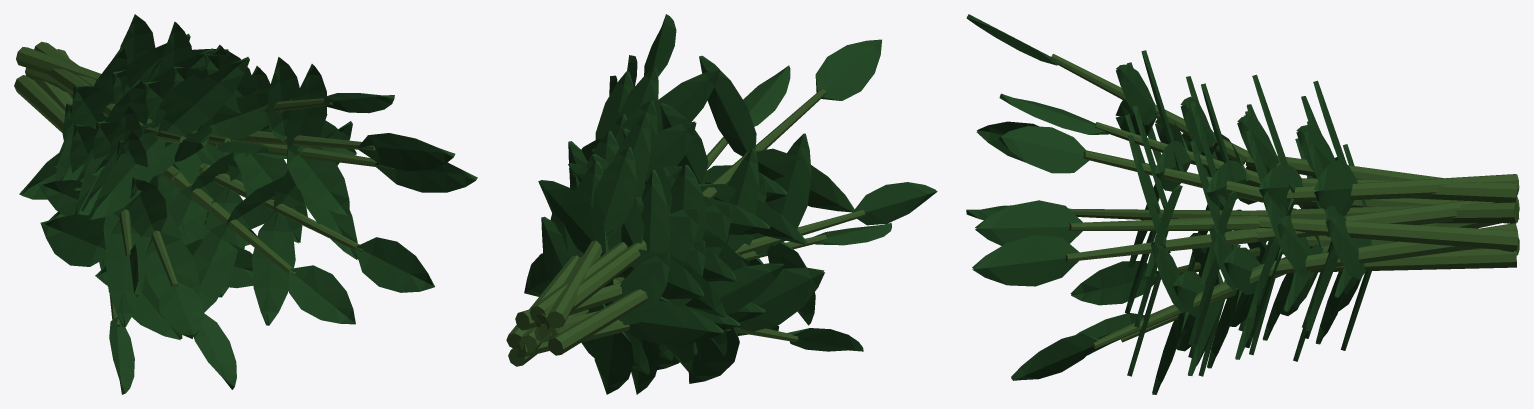
The model's file is VD_ZZPlant_C.obj.
The picture shows the model from 3 angles, left to right: view 1: azimuth 30°, elevation 25°; view 2: azimuth 150°, elevation 25°; view 3: azimuth 270°, elevation 25°; orthographic projection. The views are drawn at different scales.
Parts seen in each view (by area): view 1: VD_ZZPlant_C; view 2: VD_ZZPlant_C; view 3: VD_ZZPlant_C.
Boxes of the visible parts, x1,y1,x2,y2 form: VD_ZZPlant_C: (14,14,477,394); VD_ZZPlant_C: (506,14,937,394); VD_ZZPlant_C: (966,14,1519,394).
Bounding box in the file's own units: 69.42 × 59.42 × 91.8.
